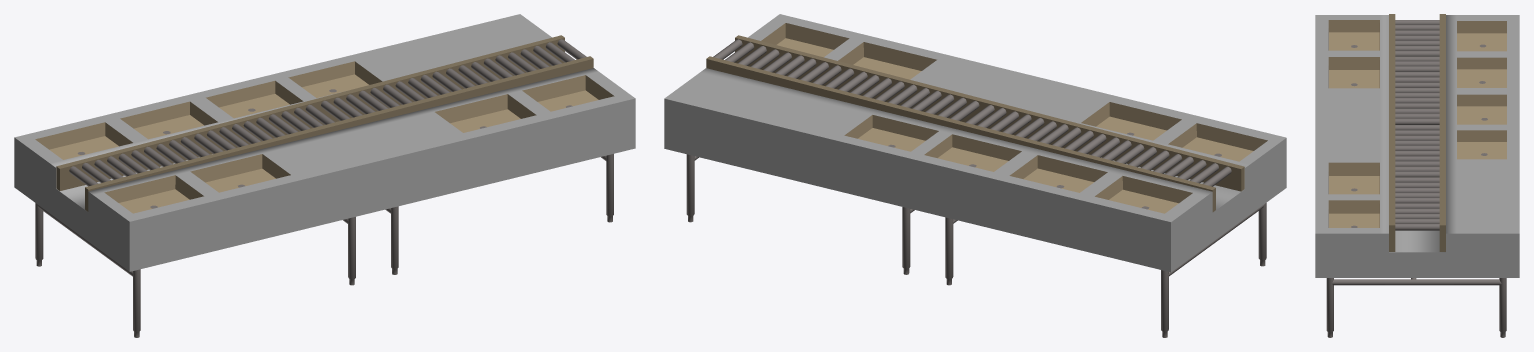
Rendered from SM_Table_Kitchen_02.FBX.
3 views of the same model, side by side, from view 1: azimuth 30°, elevation 25°; view 2: azimuth 150°, elevation 25°; view 3: azimuth 270°, elevation 25° (orthographic). The views are drawn at different scales.
Visible parts, largest first — view 1: SM_Table_Kitchen_02; view 2: SM_Table_Kitchen_02; view 3: SM_Table_Kitchen_02.
Part boxes in pixels (box(x1,y1,x2,y2)): SM_Table_Kitchen_02: box(14, 14, 635, 337); SM_Table_Kitchen_02: box(664, 14, 1286, 337); SM_Table_Kitchen_02: box(1315, 14, 1519, 337).
Size of the model in its own units: 402 by 159 by 102.
